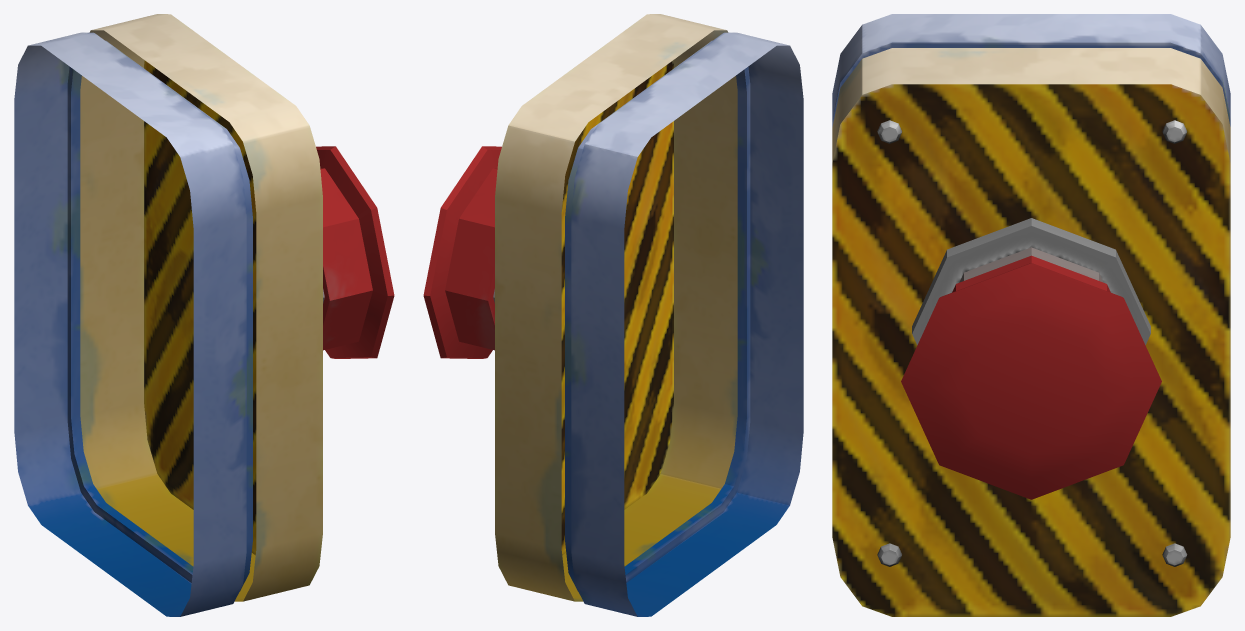
Rendered from PROP_012_AirLockButton.fbx.
3 renders of one model, left to right at view 1: azimuth 30°, elevation 25°; view 2: azimuth 150°, elevation 25°; view 3: azimuth 270°, elevation 25°, orthographic. The views are drawn at different scales.
Parts seen in each view (by area): view 1: Button; view 2: Button; view 3: Button.
Part boxes in pixels (x1,y1,x2,y2): Button: [14, 14, 394, 616]; Button: [423, 14, 803, 616]; Button: [832, 14, 1230, 616].
Bounding box in the file's own units: 0.2627 × 0.4904 × 0.3323.
Materials: 1 (1 with a texture image).
